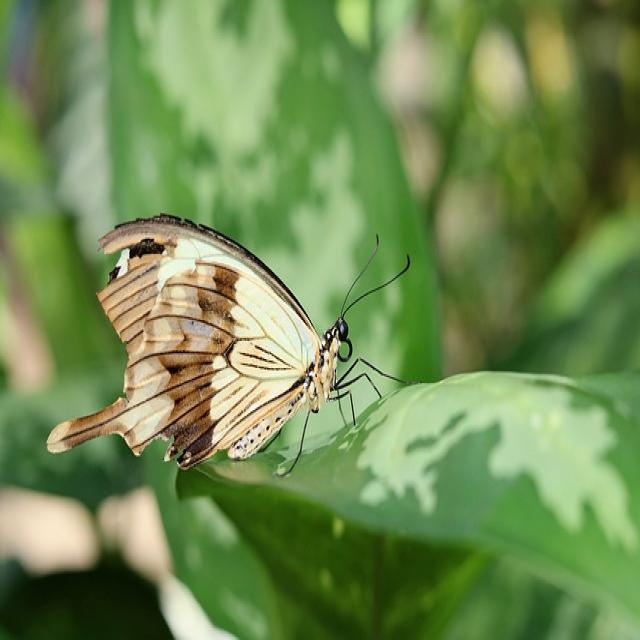butterfly: (47, 215, 366, 472)
